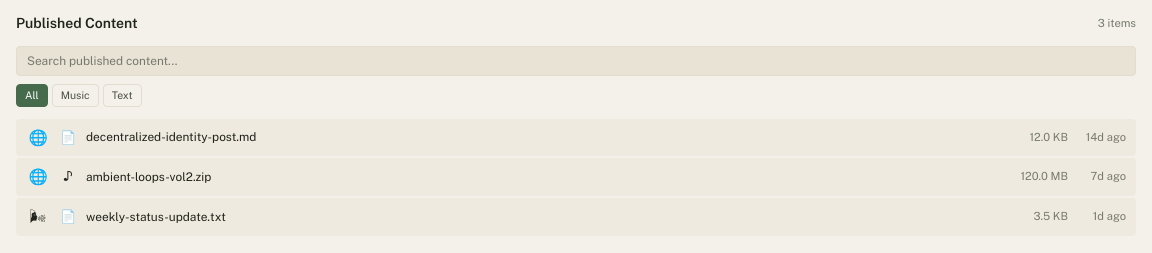
Test: PublishedView › updates item count when filtered
The image size is (1152, 253).
Click the button "Music" at (75, 96), box [52,84,99,107]
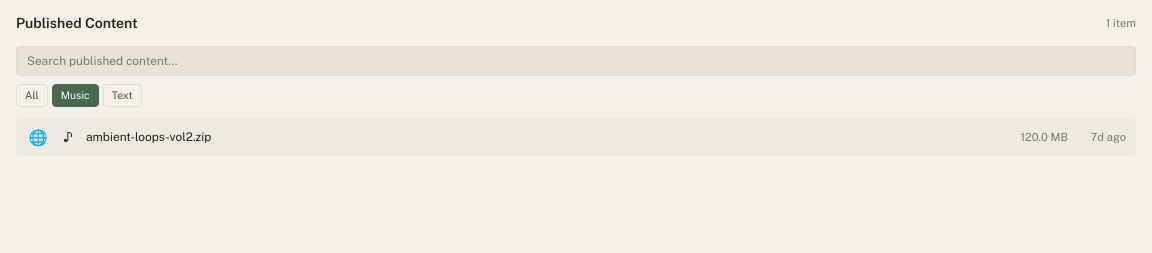
Check: the text "1 item" is shown, box [1106,16,1136,32]
